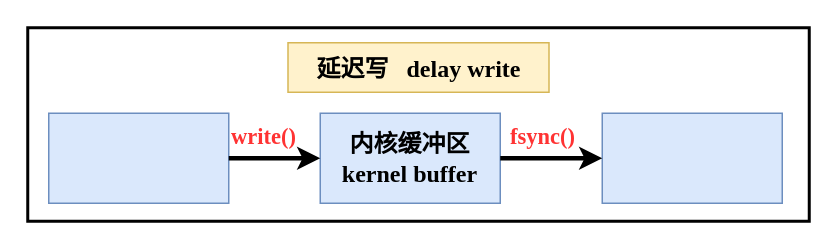
Some shapes in this 836 by 248 pixel diagram are drawn without their labels. The box of each missing label's shape, as (x1, y1, x2, y2) in pixels:
用户内存 user memory: (47, 112, 229, 203)
磁盘文件 disk file: (601, 112, 782, 203)
